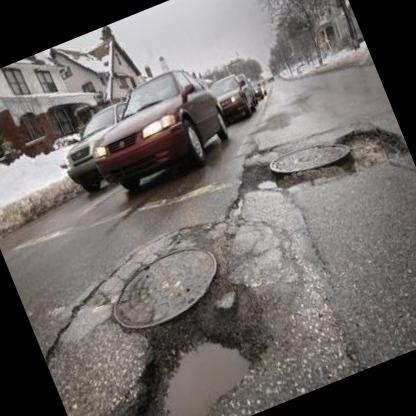pothole: (71, 272, 296, 416), (333, 110, 412, 183), (224, 148, 286, 208)
